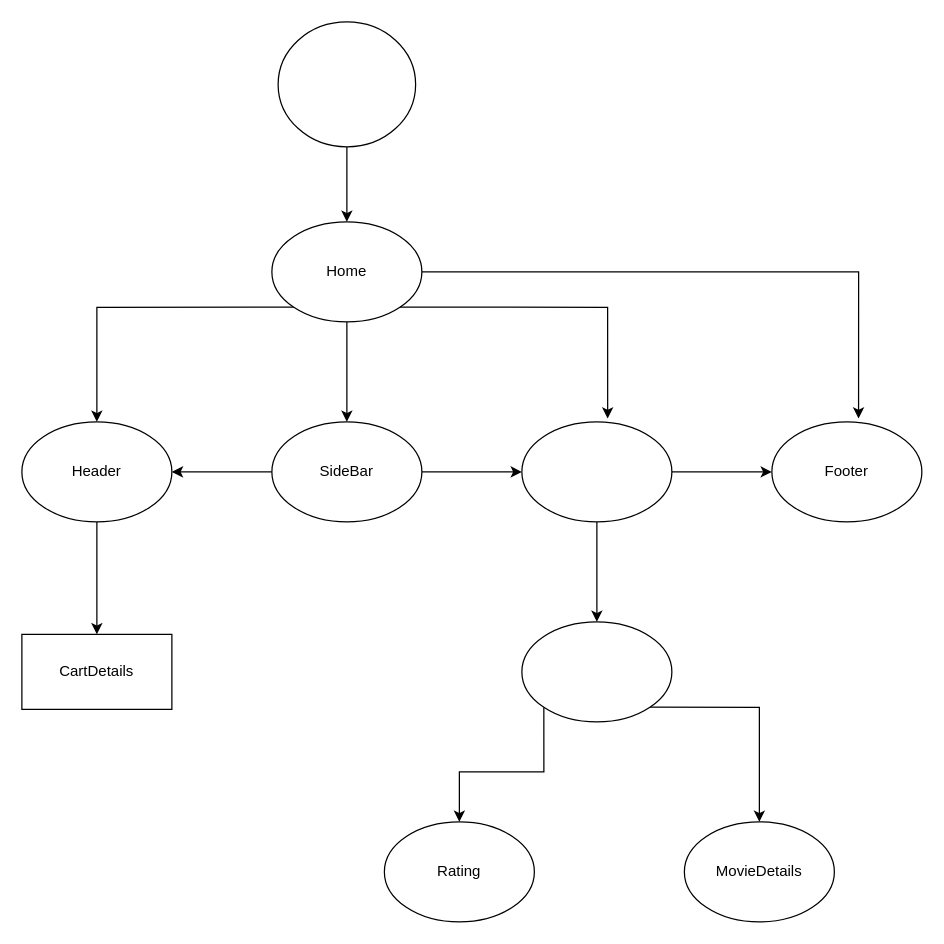
Image size: 944x944. Some labels were removed from this diagram. Here are the shapes that lost their labels. From the top down, the box of each, then its label:
(277, 21, 416, 147): App
(521, 421, 672, 522): MovieList
(521, 621, 672, 722): MovieCard
